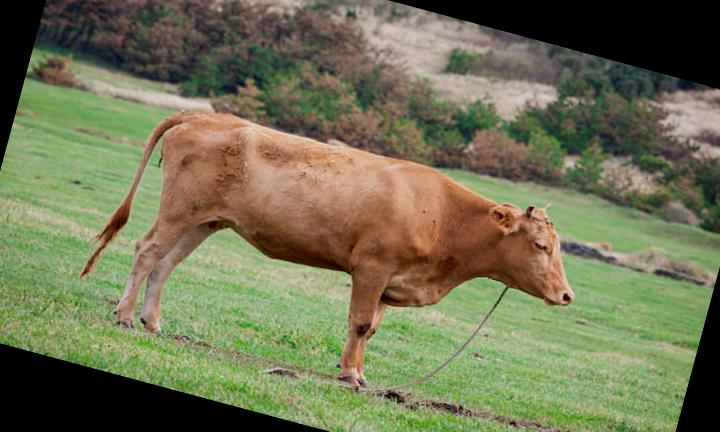Charolais: (80, 111, 573, 384)
